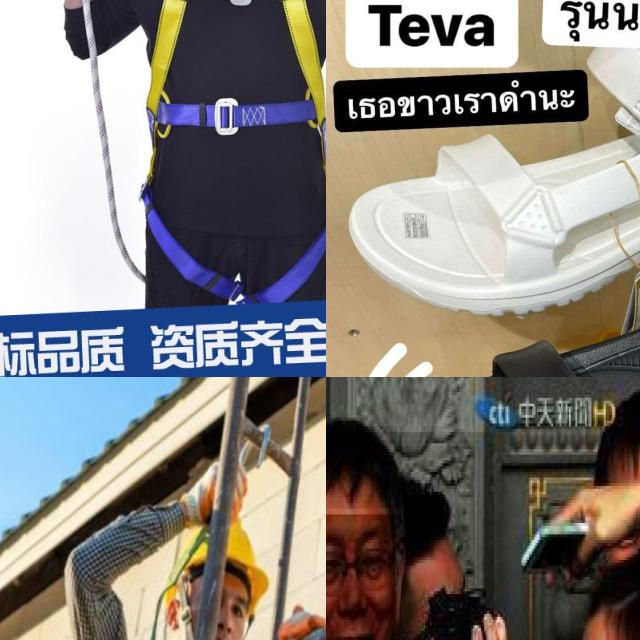Harness: (141, 0, 326, 288)
Sandals: (326, 0, 640, 329), (366, 168, 640, 377)
face_nomask: (326, 514, 396, 640)
glasses: (326, 540, 398, 597)
head_nohelmet: (326, 426, 404, 511), (568, 565, 640, 640)
person: (326, 432, 495, 640)
